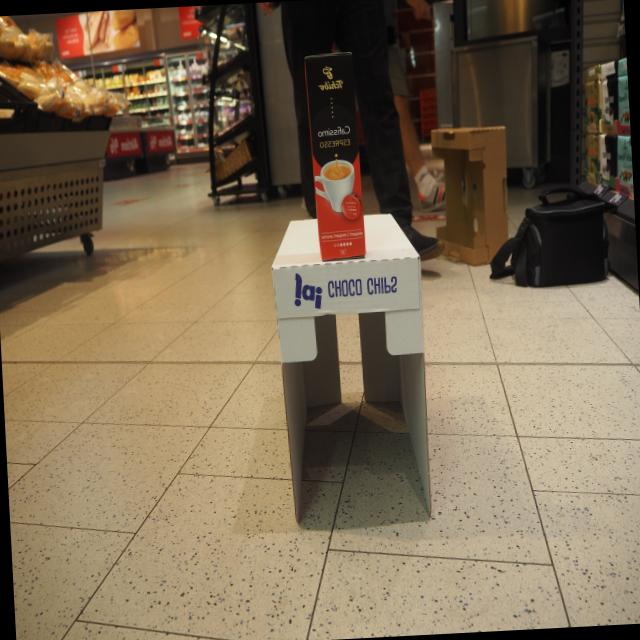Simo Es Elegant: (302, 49, 368, 265)
